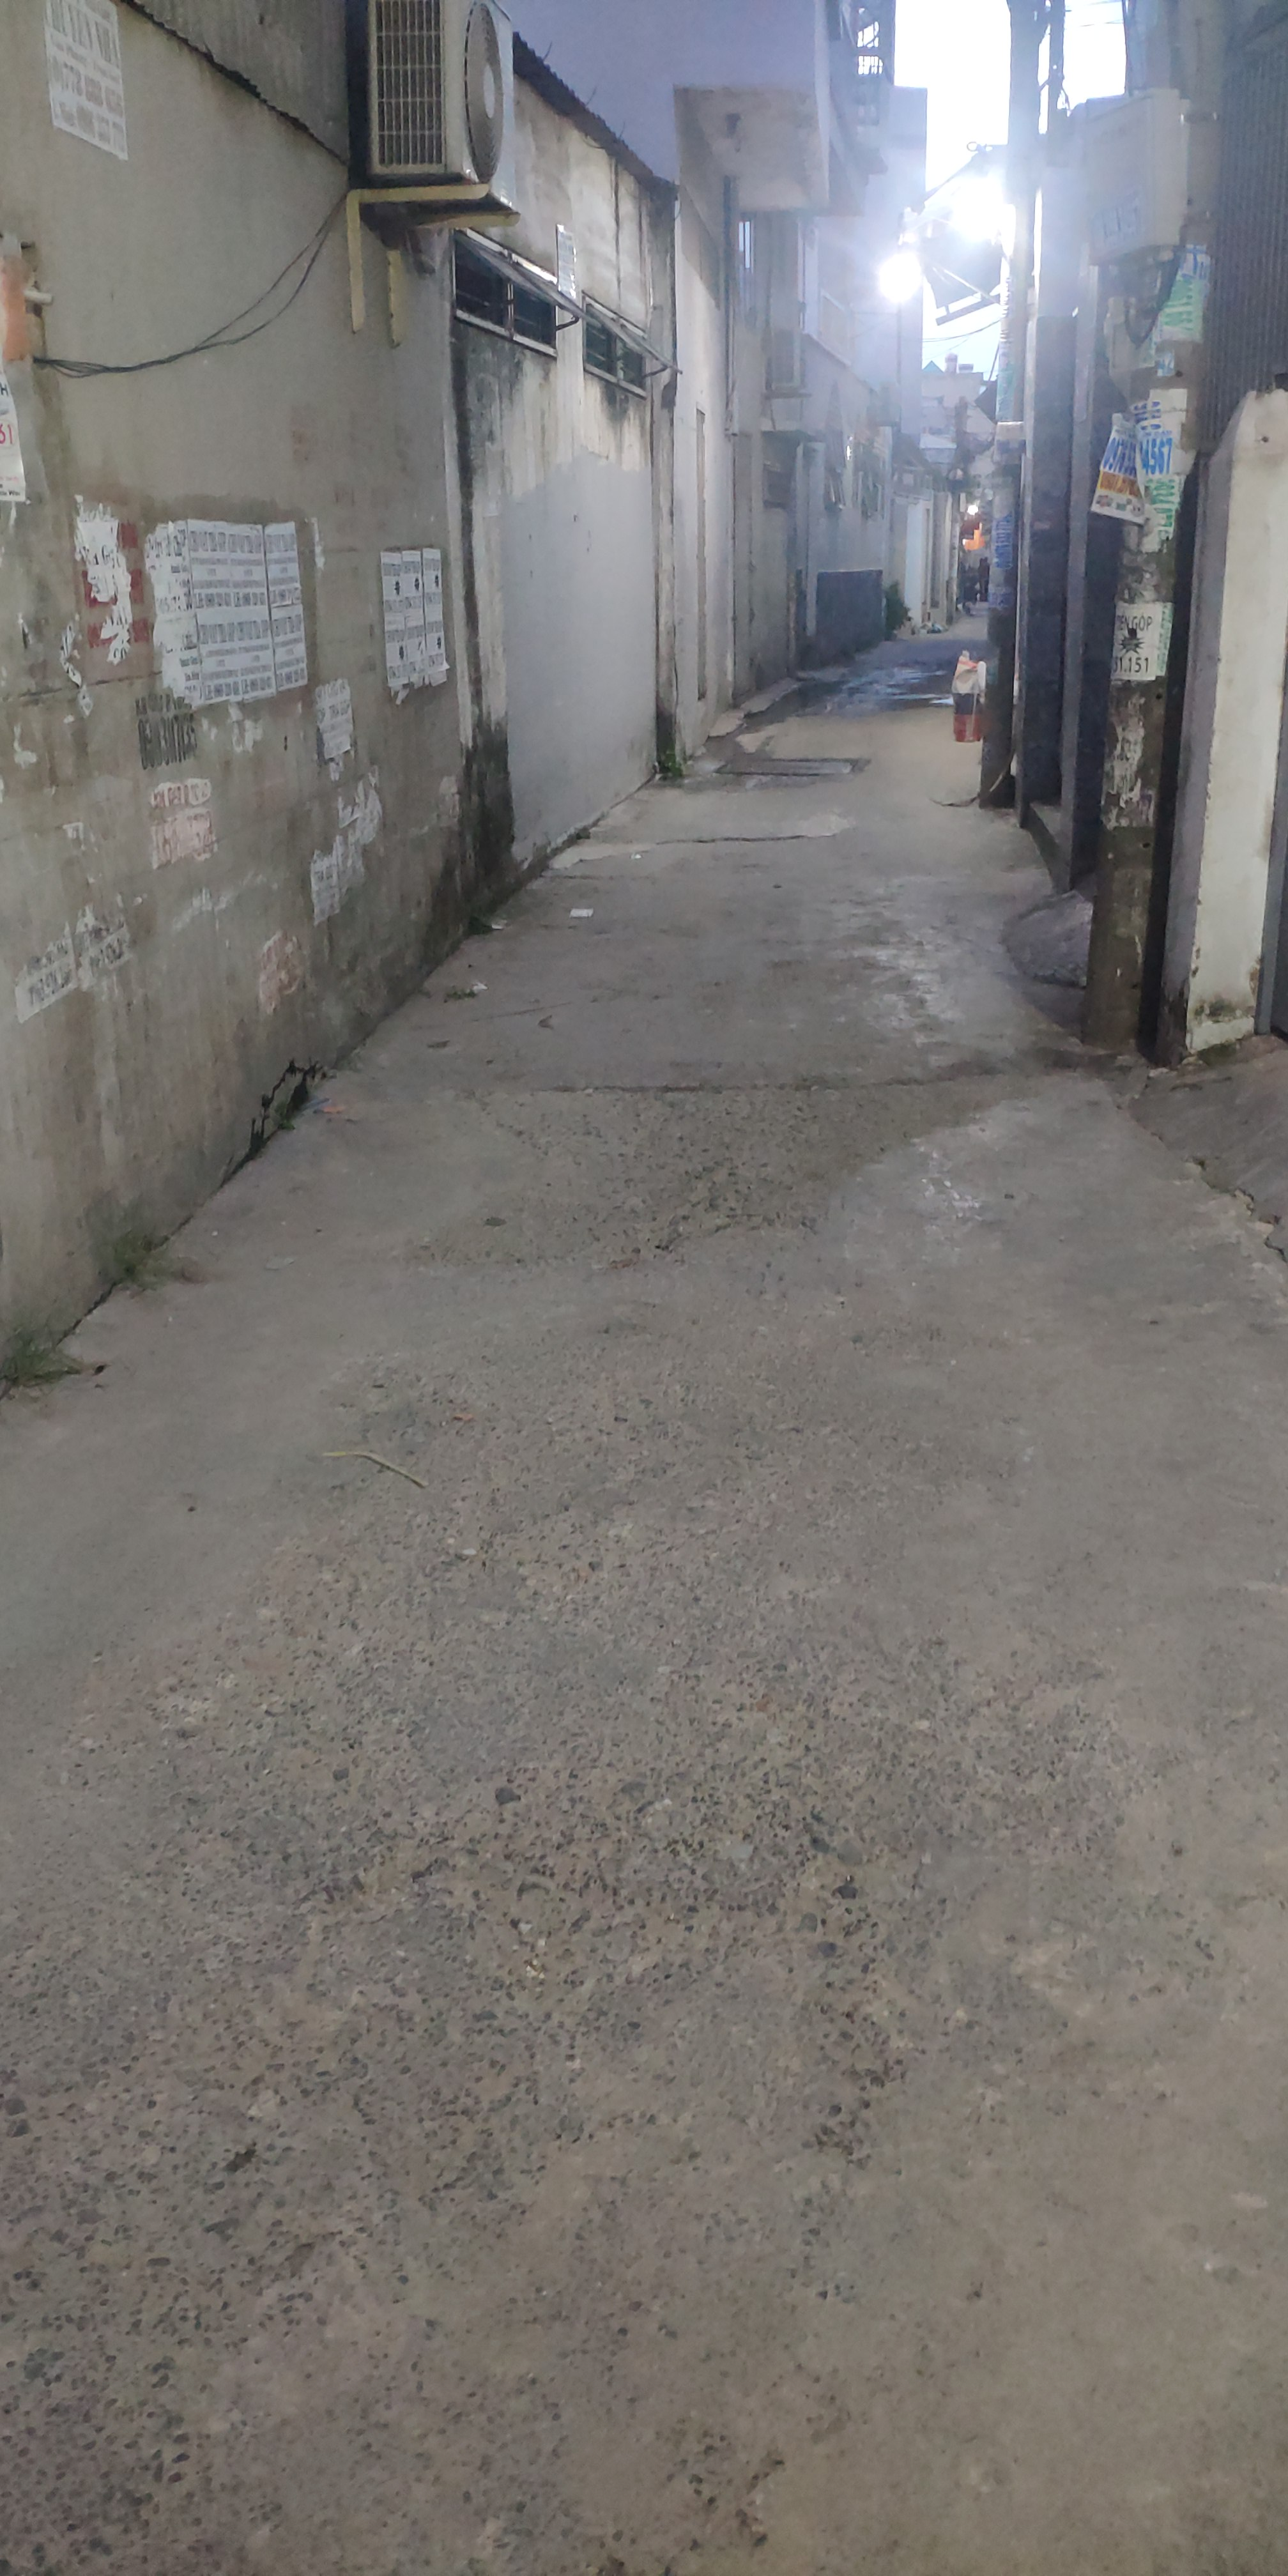hole: (435, 1960, 876, 2576), (424, 1078, 900, 1257)
